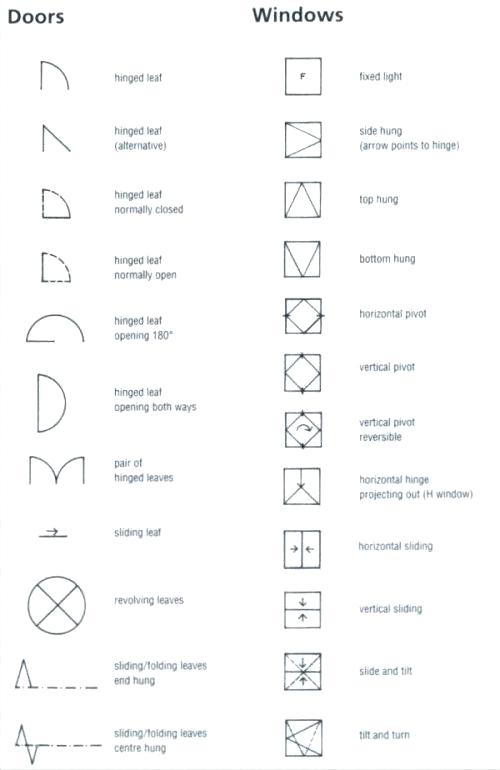door: (12, 303, 96, 360), (20, 450, 93, 500), (27, 367, 71, 438), (33, 246, 82, 293), (38, 176, 75, 236), (36, 51, 72, 103)
